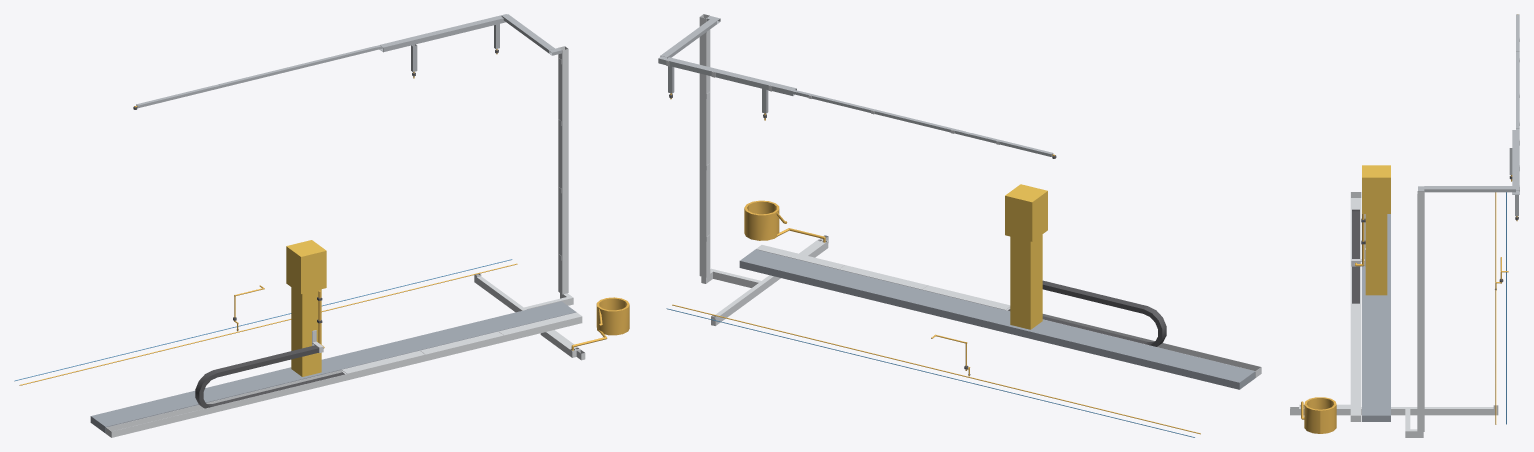
Rendered from modul_R.glb.
3 renders of one model, left to right at view 1: azimuth 30°, elevation 25°; view 2: azimuth 150°, elevation 25°; view 3: azimuth 270°, elevation 25°, orthographic. The views are drawn at different scales.
Parts seen in each view (by area): view 1: ROBOT_RAY, ROBOT_ZINCIR_OLUGU__paslanmaz, ELK_ANA_HAT__kanal, ELK_ANA_HAT__paslanmaz, ROBOT_1, ROBOT_1_KOL, ROBOT_ENERJI_ZINCIRI__zincir, ROBOT_KABLOSU__kablo, ELK_ANA_HAT__kablo, ELK_ZEMIN_KANALI__paslanmaz, ELK_ANA_HAT__kablo_veri; view 2: ROBOT_RAY, ELK_ANA_HAT__kanal, ELK_ANA_HAT__paslanmaz, ROBOT_1, ROBOT_ZINCIR_OLUGU__paslanmaz, ROBOT_1_KOL, ROBOT_ENERJI_ZINCIRI__zincir, ROBOT_KABLOSU__kablo, ELK_ZEMIN_KANALI__paslanmaz, ELK_ANA_HAT__kablo, ELK_ANA_HAT__kablo_veri; view 3: ROBOT_RAY, ROBOT_ZINCIR_OLUGU__paslanmaz, ELK_ANA_HAT__paslanmaz, ROBOT_1, ELK_ANA_HAT__kanal, ROBOT_1_KOL, ROBOT_KABLOSU__kablo, ELK_ZEMIN_KANALI__paslanmaz, ROBOT_ENERJI_ZINCIRI__zincir, ELK_ANA_HAT__kablo.
Boxes of the visible parts, x1,y1,x2,y2 form: ROBOT_RAY: (90,301,576,433); ROBOT_ZINCIR_OLUGU__paslanmaz: (106,312,582,437); ELK_ANA_HAT__kanal: (136,14,561,108); ELK_ANA_HAT__paslanmaz: (558,46,568,294); ROBOT_1: (291,287,321,376); ROBOT_1_KOL: (286,240,326,293); ROBOT_ENERJI_ZINCIRI__zincir: (195,345,344,408); ROBOT_KABLOSU__kablo: (318,290,629,350); ELK_ANA_HAT__kablo: (19,49,517,385); ELK_ZEMIN_KANALI__paslanmaz: (474,273,585,360); ELK_ANA_HAT__kablo_veri: (14,259,512,381); ROBOT_RAY: (739,249,1255,389); ELK_ANA_HAT__kanal: (658,16,1053,156); ELK_ANA_HAT__paslanmaz: (666,14,999,277); ROBOT_1: (1010,234,1042,329); ROBOT_ZINCIR_OLUGU__paslanmaz: (756,245,1261,377); ROBOT_1_KOL: (1005,184,1047,241); ROBOT_ENERJI_ZINCIRI__zincir: (1008,280,1166,346); ROBOT_KABLOSU__kablo: (744,200,825,242); ELK_ZEMIN_KANALI__paslanmaz: (701,235,828,325); ELK_ANA_HAT__kablo: (670,93,1200,434); ELK_ANA_HAT__kablo_veri: (666,308,1194,437); ROBOT_RAY: (1362,214,1390,421); ROBOT_ZINCIR_OLUGU__paslanmaz: (1350,192,1361,421); ELK_ANA_HAT__paslanmaz: (1417,38,1519,431); ROBOT_1: (1365,214,1387,295); ELK_ANA_HAT__kanal: (1418,14,1519,215); ROBOT_1_KOL: (1362,165,1390,213); ROBOT_KABLOSU__kablo: (1301,214,1364,433); ELK_ZEMIN_KANALI__paslanmaz: (1290,405,1498,437); ROBOT_ENERJI_ZINCIRI__zincir: (1352,209,1359,303); ELK_ANA_HAT__kablo: (1495,14,1517,424).
Bounding box in the file's own units: 4.83 × 2.24 × 1.91.
